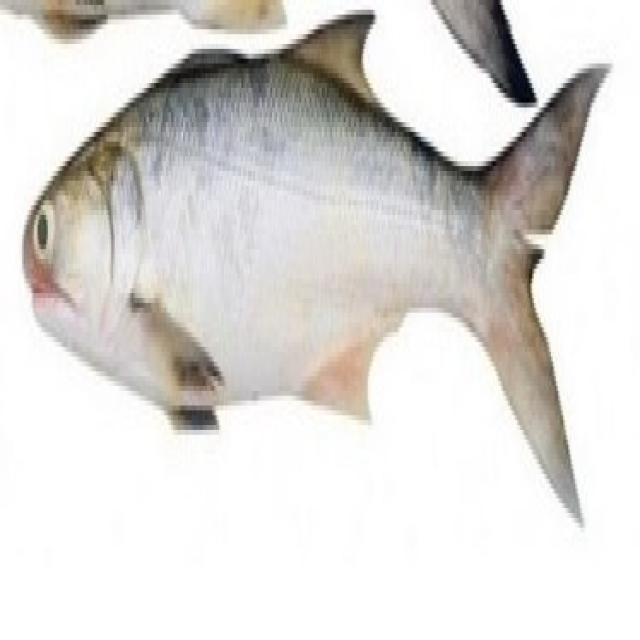Fourfinger-Threadfin: (28, 29, 625, 524)
